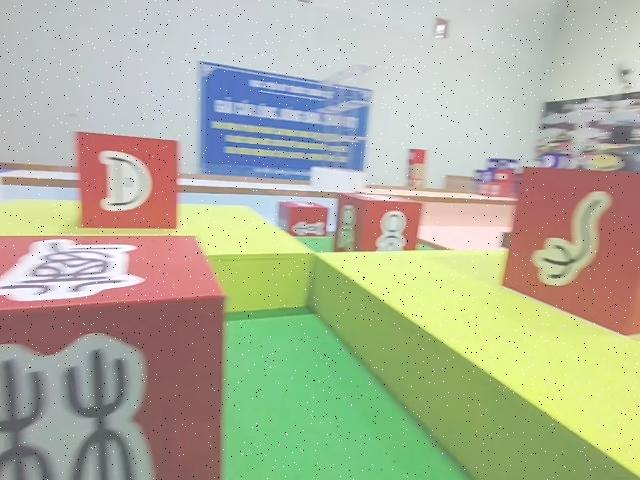R2 Fake: (0, 236, 224, 480)
R2 Real: (500, 163, 640, 338), (75, 130, 177, 231), (334, 193, 419, 259)
